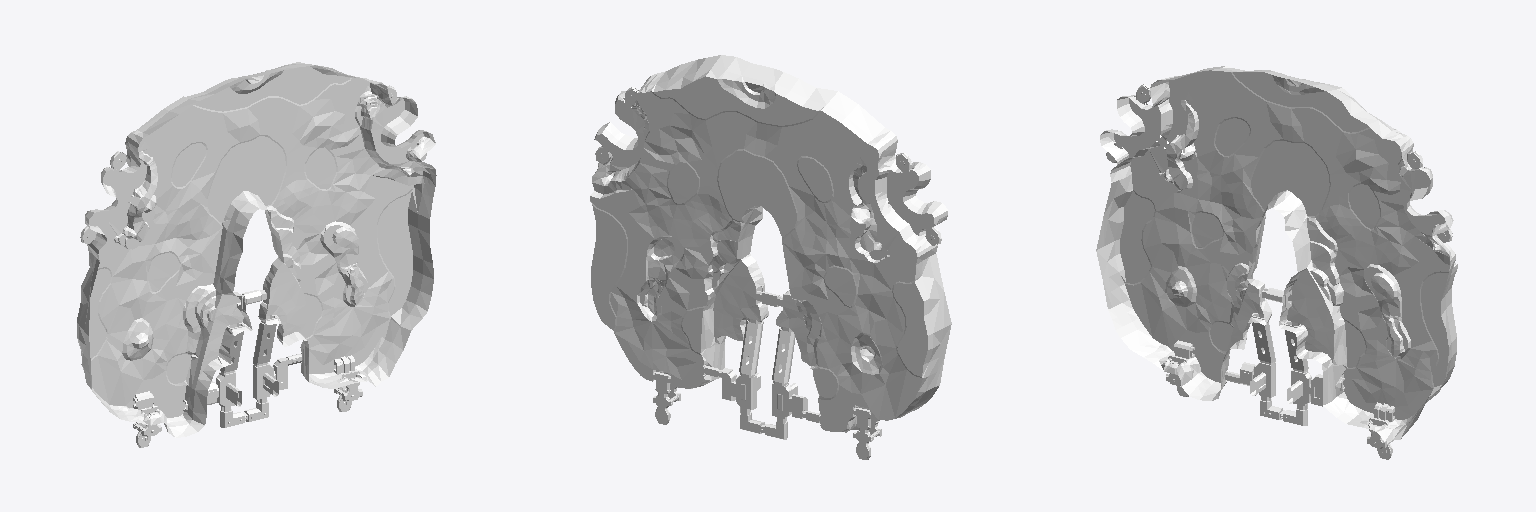
Rendered from sidewinder_Lightmap.obj.
The picture shows the model from 3 angles: view 1: azimuth 30°, elevation 25°; view 2: azimuth 150°, elevation 25°; view 3: azimuth 330°, elevation 25°; orthographic projection.
Parts seen in each view (by area): view 1: sidewinder_Lightmap_5, sidewinder_Lightmap_6, sidewinder_Lightmap_1, sidewinder_Lightmap_7; view 2: sidewinder_Lightmap_5, sidewinder_Lightmap_6, sidewinder_Lightmap_1, sidewinder_Lightmap_7, sidewinder_Lightmap_2, sidewinder_Lightmap_8, sidewinder_Lightmap_0; view 3: sidewinder_Lightmap_5, sidewinder_Lightmap_6, sidewinder_Lightmap_1.
Boxes of the visible parts, box(x1,y1,x2,y2) form: sidewinder_Lightmap_5: box(77, 62, 436, 437); sidewinder_Lightmap_6: box(253, 171, 411, 366); sidewinder_Lightmap_1: box(133, 355, 362, 447); sidewinder_Lightmap_7: box(253, 363, 273, 403); sidewinder_Lightmap_5: box(590, 55, 951, 432); sidewinder_Lightmap_6: box(608, 172, 763, 377); sidewinder_Lightmap_1: box(653, 364, 881, 459); sidewinder_Lightmap_7: box(736, 375, 756, 415); sidewinder_Lightmap_2: box(653, 372, 670, 424); sidewinder_Lightmap_8: box(772, 383, 793, 418); sidewinder_Lightmap_0: box(740, 412, 783, 438); sidewinder_Lightmap_5: box(1096, 66, 1457, 441); sidewinder_Lightmap_6: box(1285, 246, 1439, 372); sidewinder_Lightmap_1: box(1162, 340, 1394, 431).
Bounding box in the file's own units: 10894 × 10964 × 1169.